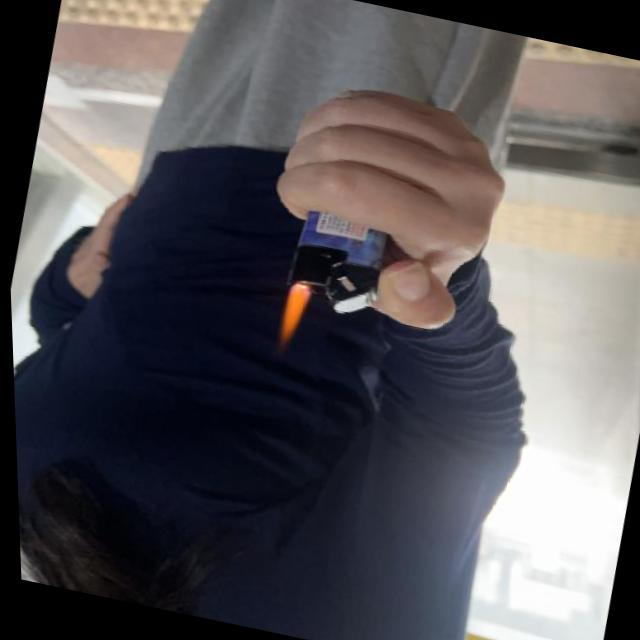Fire: (272, 286, 313, 347)
